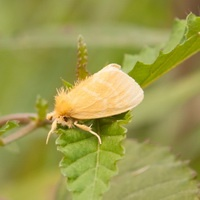insect: (47, 64, 143, 142)
